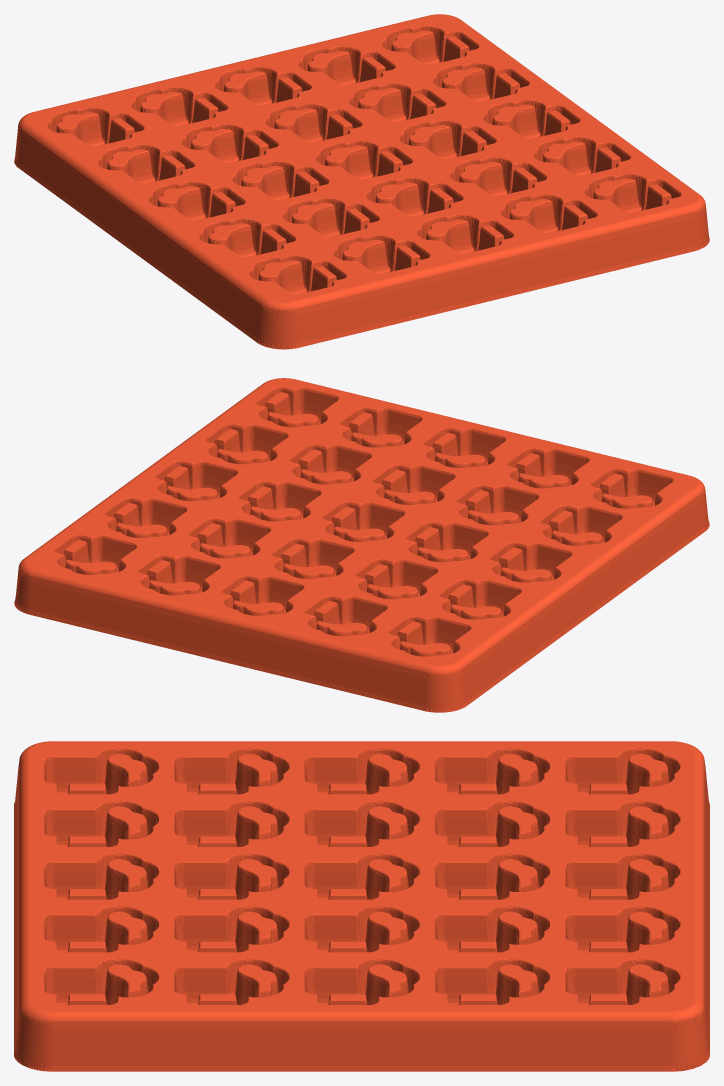
File: mold.glb
3 renders of one model, top to bottom at view 1: azimuth 30°, elevation 25°; view 2: azimuth 150°, elevation 25°; view 3: azimuth 270°, elevation 25°, orthographic. The views are drawn at different scales.
Visible parts, largest first — view 1: geometry_0; view 2: geometry_0; view 3: geometry_0.
Part boxes in pixels (x1=…): geometry_0: x1=14, y1=14, x2=709, y2=349; geometry_0: x1=14, y1=378, x2=709, y2=712; geometry_0: x1=14, y1=741, x2=709, y2=1071.
Bounding box in the file's own units: 0.1519 × 0.0136 × 0.1584.
